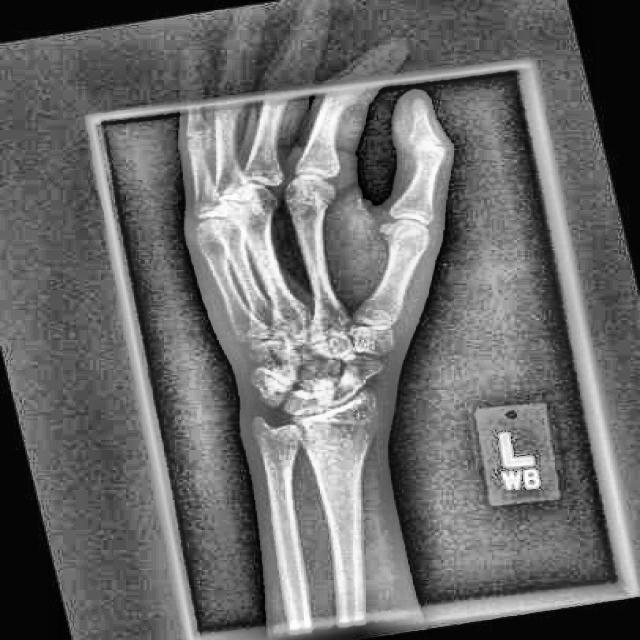wrist positive: (297, 397, 385, 450), (248, 386, 294, 414)
